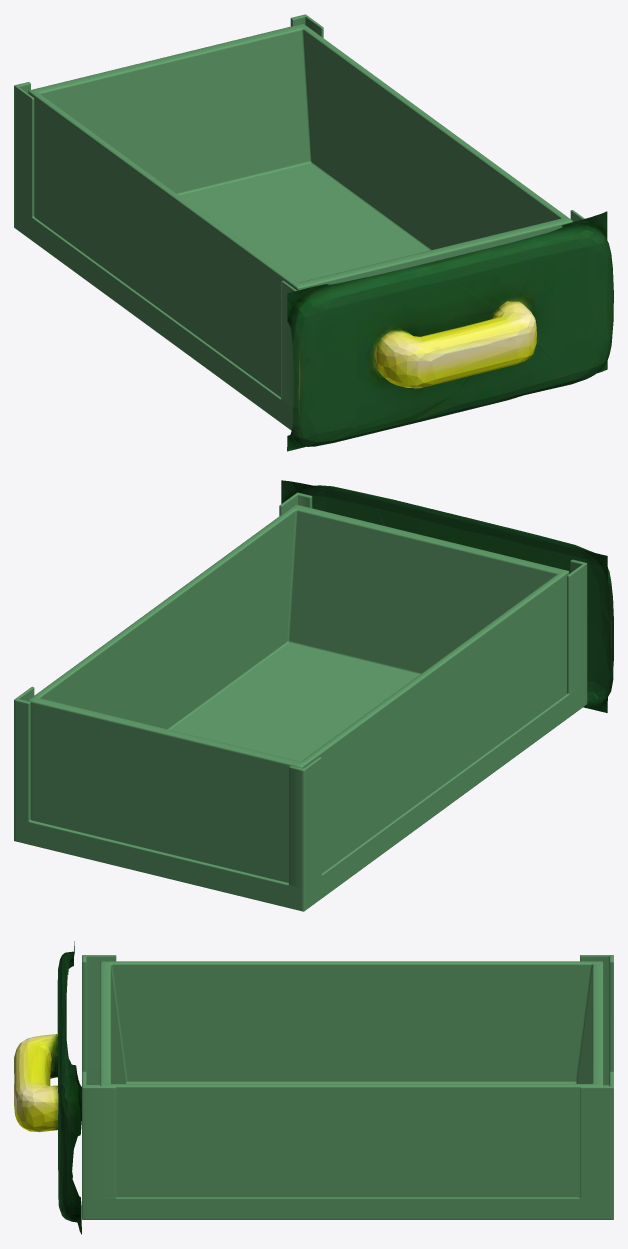
Rendered from top_drawer.glb.
3 views of the same model, one above another, from view 1: azimuth 30°, elevation 25°; view 2: azimuth 150°, elevation 25°; view 3: azimuth 270°, elevation 25° (orthographic). The views are drawn at different scales.
Visible parts, largest first — view 1: prefab_drawer_body_1, source_front_cap_0; view 2: prefab_drawer_body_1, source_front_cap_0; view 3: prefab_drawer_body_1, source_front_cap_0.
Boxes of the visible parts, <box> form: prefab_drawer_body_1: <box>14,14,584,430</box>; source_front_cap_0: <box>287,211,613,451</box>; prefab_drawer_body_1: <box>14,492,587,911</box>; source_front_cap_0: <box>281,480,613,712</box>; prefab_drawer_body_1: <box>82,955,613,1219</box>; source_front_cap_0: <box>14,941,81,1234</box>.
Size of the model in its own units: 0.179 by 0.0835 by 0.3079.
2 materials, 1 textured.
